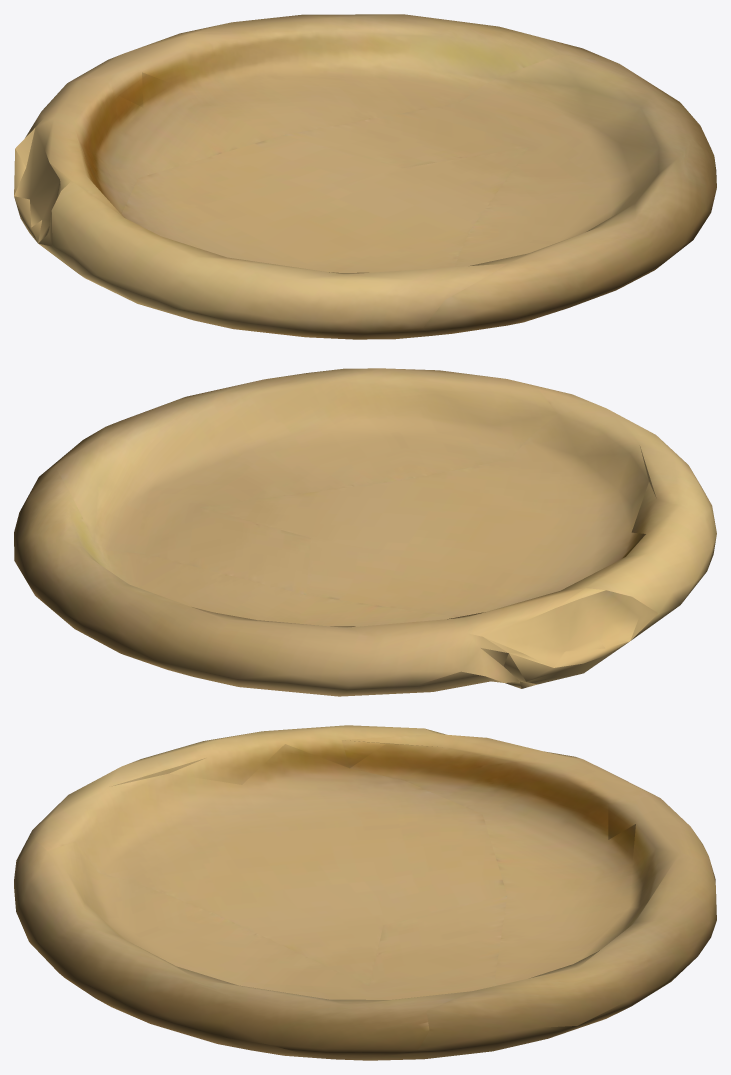
The model's file is pizzaBase.glb.
The picture shows the model from 3 angles, top to bottom: view 1: azimuth 30°, elevation 25°; view 2: azimuth 150°, elevation 25°; view 3: azimuth 270°, elevation 25°; orthographic projection.
Visible parts, largest first — view 1: model; view 2: model; view 3: model.
Part boxes in pixels (<box>): model: <box>14,14,716,339</box>; model: <box>14,368,716,696</box>; model: <box>14,725,716,1060</box>.
Bounding box in the file's own units: 1.89 × 0.2804 × 1.89.
Materials: 1 (1 with a texture image).
